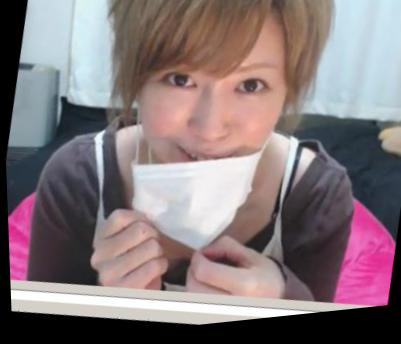WRONG: (116, 32, 296, 226)
